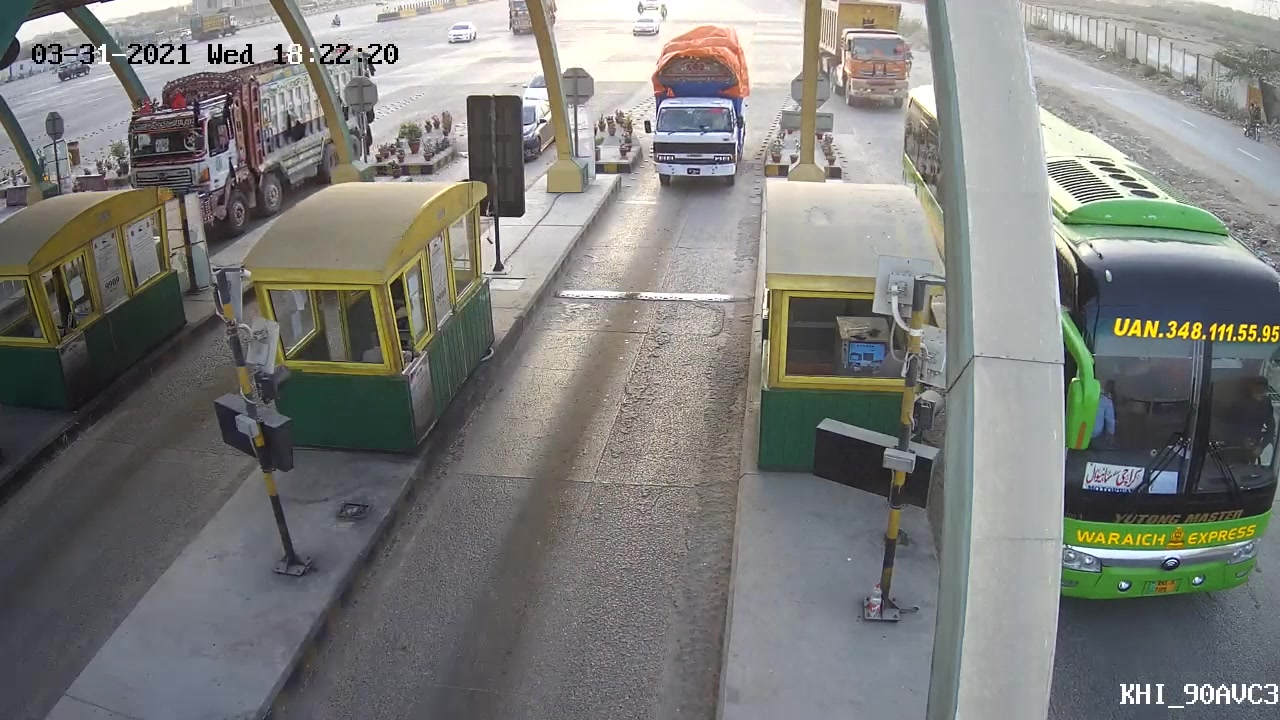F5: (640, 22, 758, 194)
